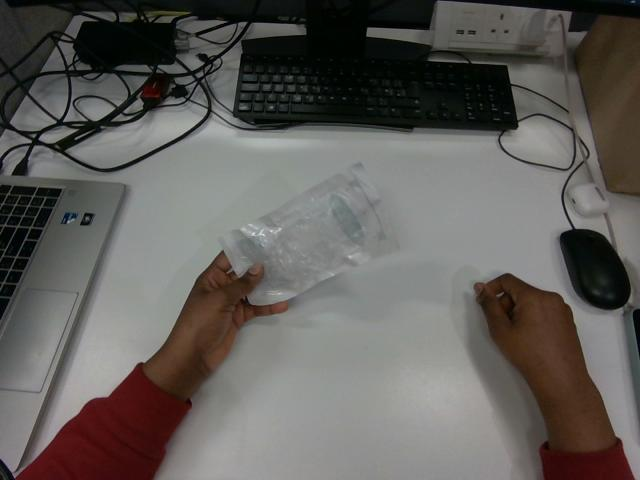gallipot: (220, 164, 397, 304)
